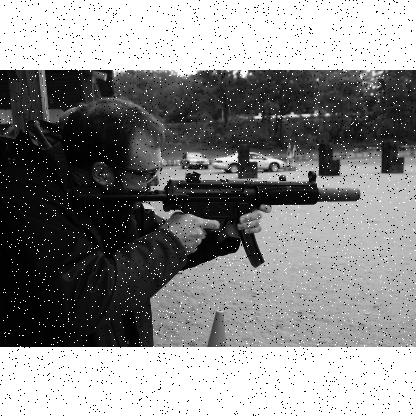gun: (73, 171, 359, 266)
